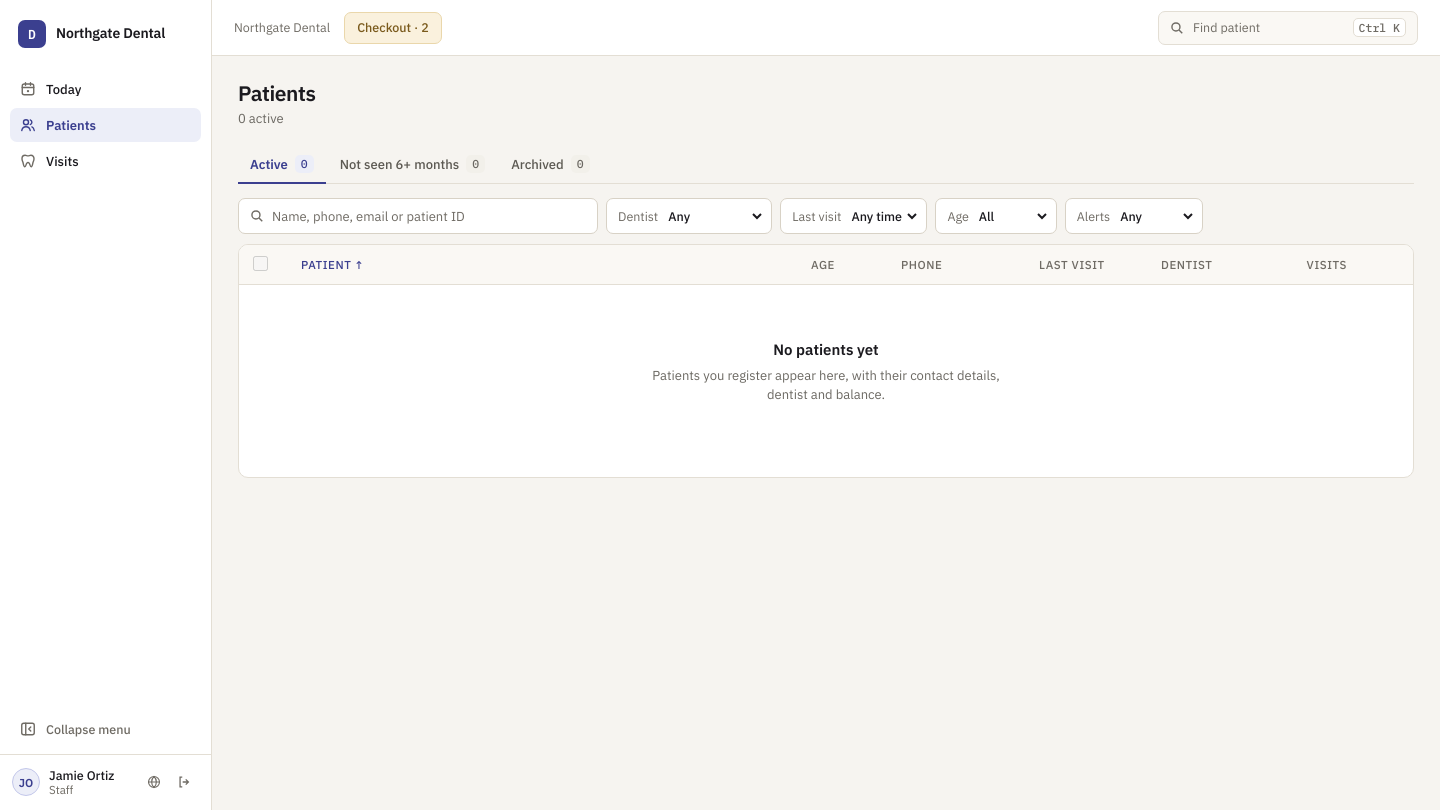
Test case: CheckoutPill › counts today's owing visits and links to the Today board, where it is hidden
This screenshot has width=1440, height=810.
Click the link "Checkout · 2" at (393, 28), box [344,12,442,44]
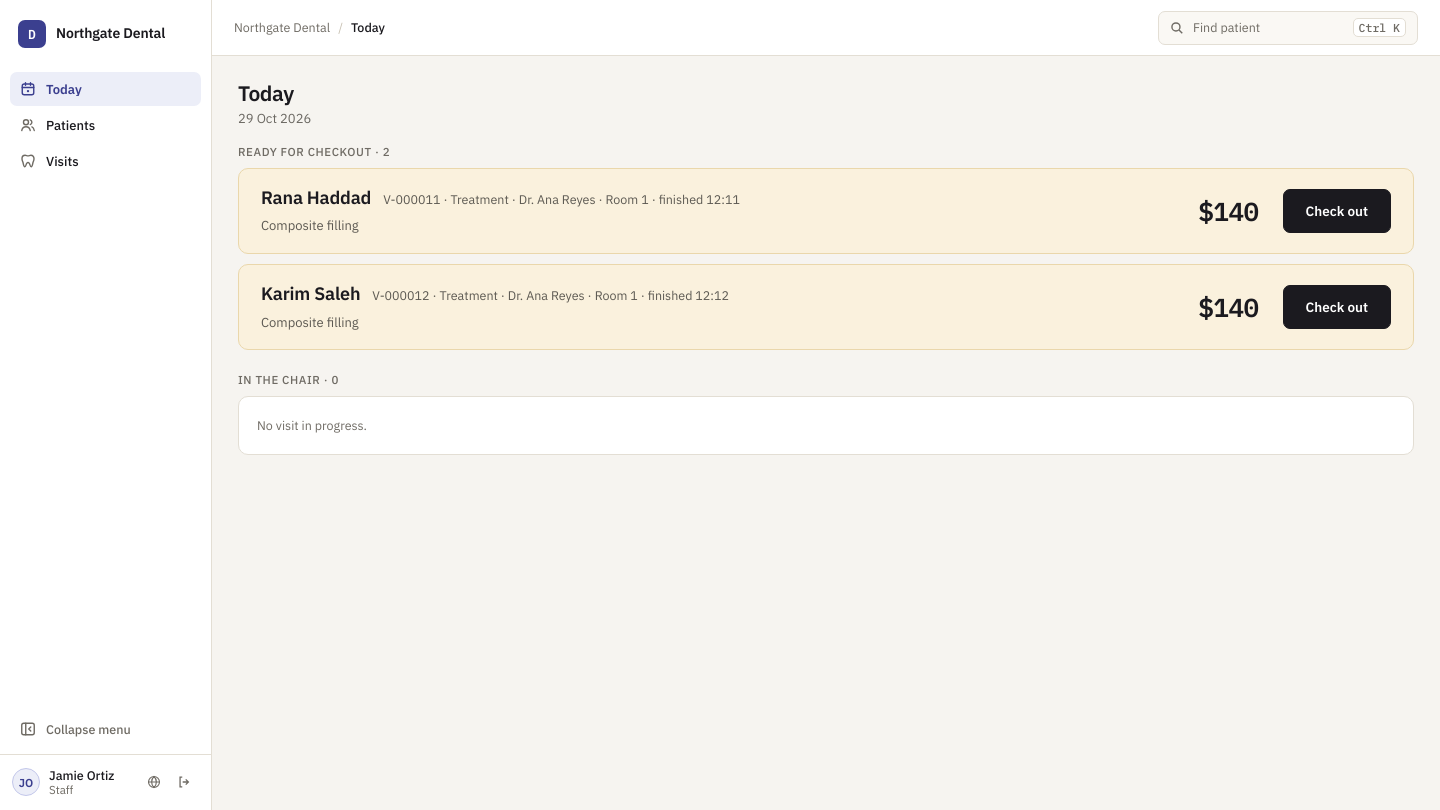
Now the heading "Today" is shown, box [238,79,294,107]
